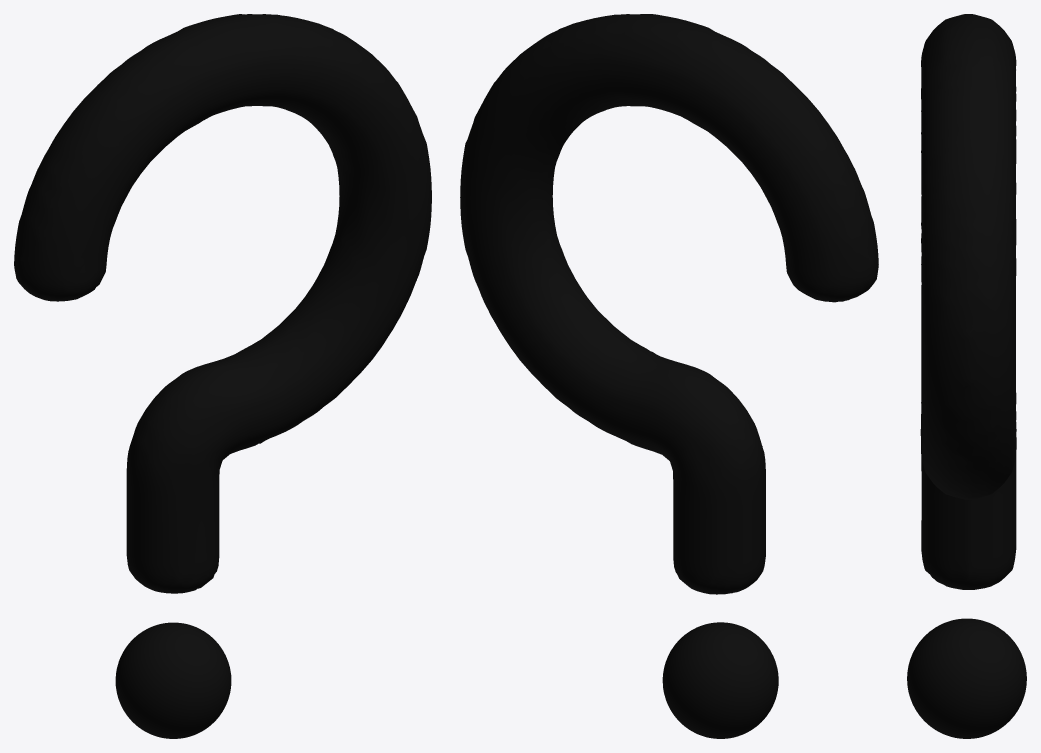
File: select-rod.glb
The picture shows the model from 3 angles, left to right: view 1: azimuth 30°, elevation 25°; view 2: azimuth 150°, elevation 25°; view 3: azimuth 270°, elevation 25°; orthographic projection. The views are drawn at different scales.
Visible parts, largest first — view 1: node_id5; view 2: node_id5; view 3: node_id5.
Boxes of the visible parts, x1,y1,x2,y2 form: node_id5: [14, 14, 431, 738]; node_id5: [460, 14, 878, 738]; node_id5: [907, 14, 1026, 738].
Bounding box in the file's own units: 0.6328 × 1.04 × 0.1564.
1 material, 1 textured.
